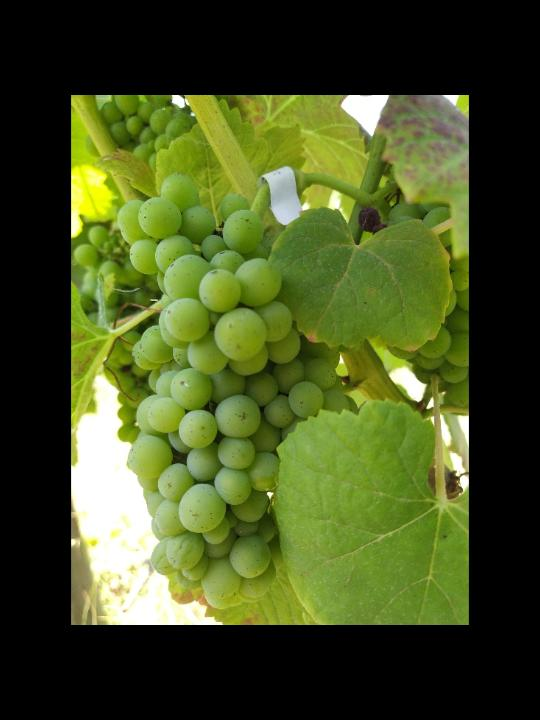grape: (118, 171, 358, 613)
